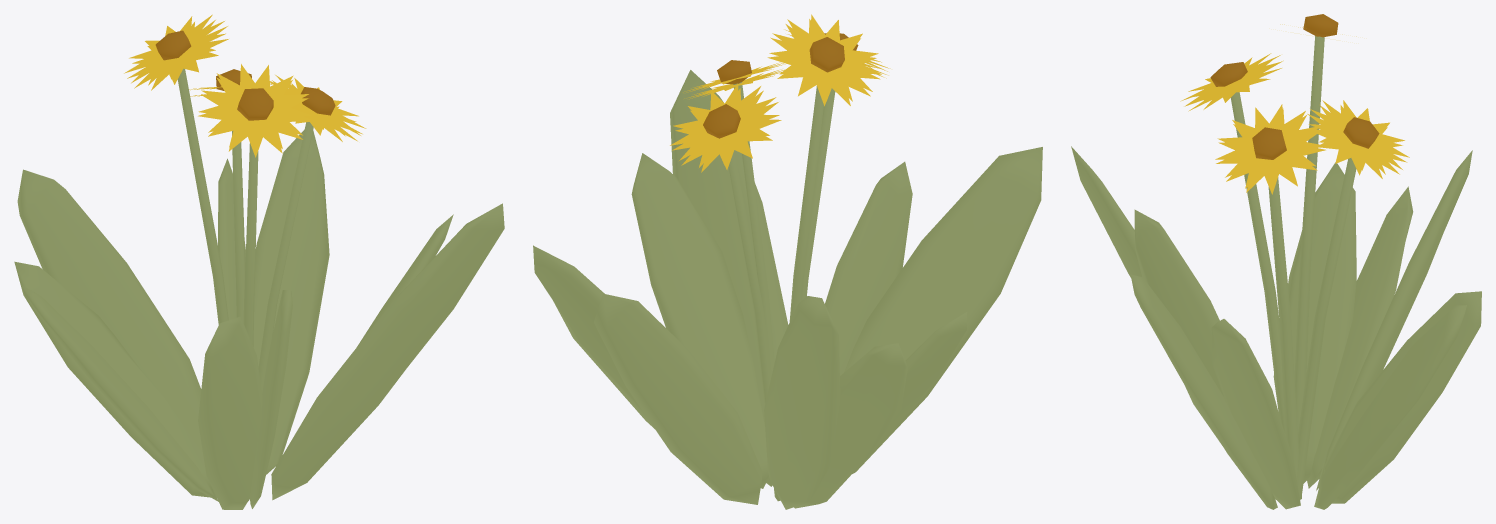
File: Blender_MulesEar_1.glb
3 renders of one model, left to right at view 1: azimuth 30°, elevation 25°; view 2: azimuth 150°, elevation 25°; view 3: azimuth 270°, elevation 25°, orthographic. The views are drawn at different scales.
Visible parts, largest first — view 1: Blender_MulesEar_1; view 2: Blender_MulesEar_1; view 3: Blender_MulesEar_1.
Boxes of the visible parts, x1=… form: Blender_MulesEar_1: x1=14, y1=14, x2=504, y2=509; Blender_MulesEar_1: x1=533, y1=14, x2=1042, y2=509; Blender_MulesEar_1: x1=1071, y1=14, x2=1481, y2=509.
Size of the model in its own units: 0.5342 by 0.631 by 0.5059.
